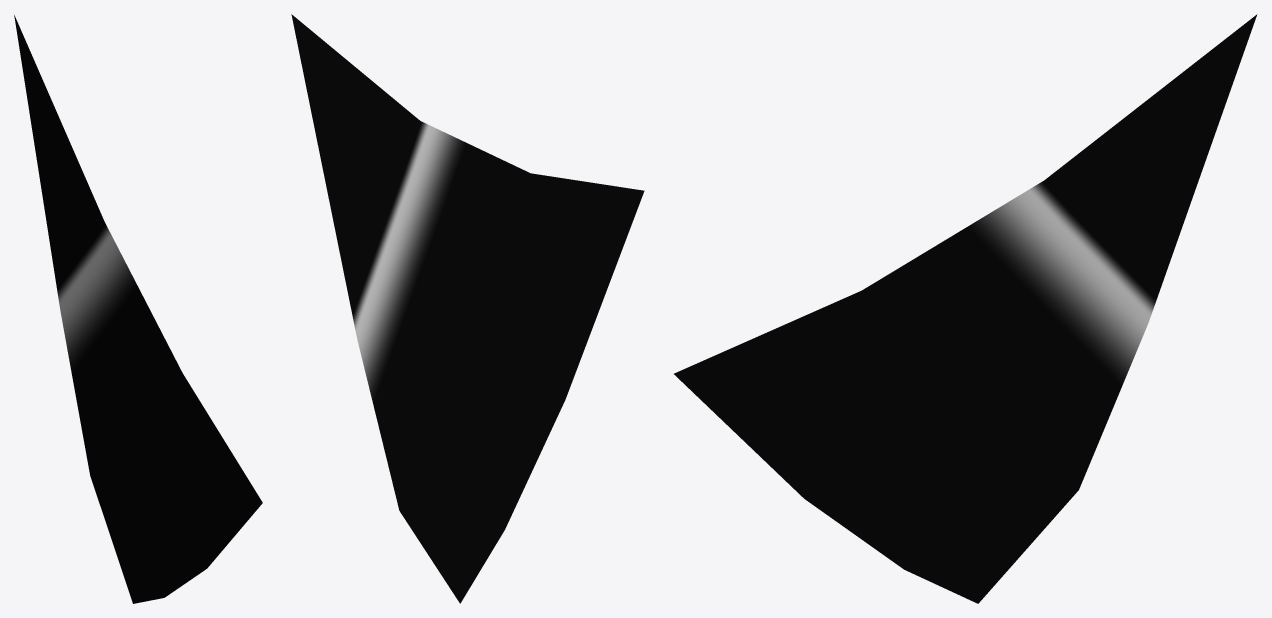
File: fanbu.FBX
3 renders of one model, left to right at view 1: azimuth 30°, elevation 25°; view 2: azimuth 150°, elevation 25°; view 3: azimuth 270°, elevation 25°, orthographic. The views are drawn at different scales.
Visible parts, largest first — view 1: fanbu; view 2: fanbu; view 3: fanbu.
Part boxes in pixels (box(x1,y1,x2,y2)): fanbu: box(14, 15, 262, 603); fanbu: box(291, 14, 644, 603); fanbu: box(674, 14, 1257, 603).
Size of the model in its own units: 1.17e-06 by 10.01 by 8.98.
